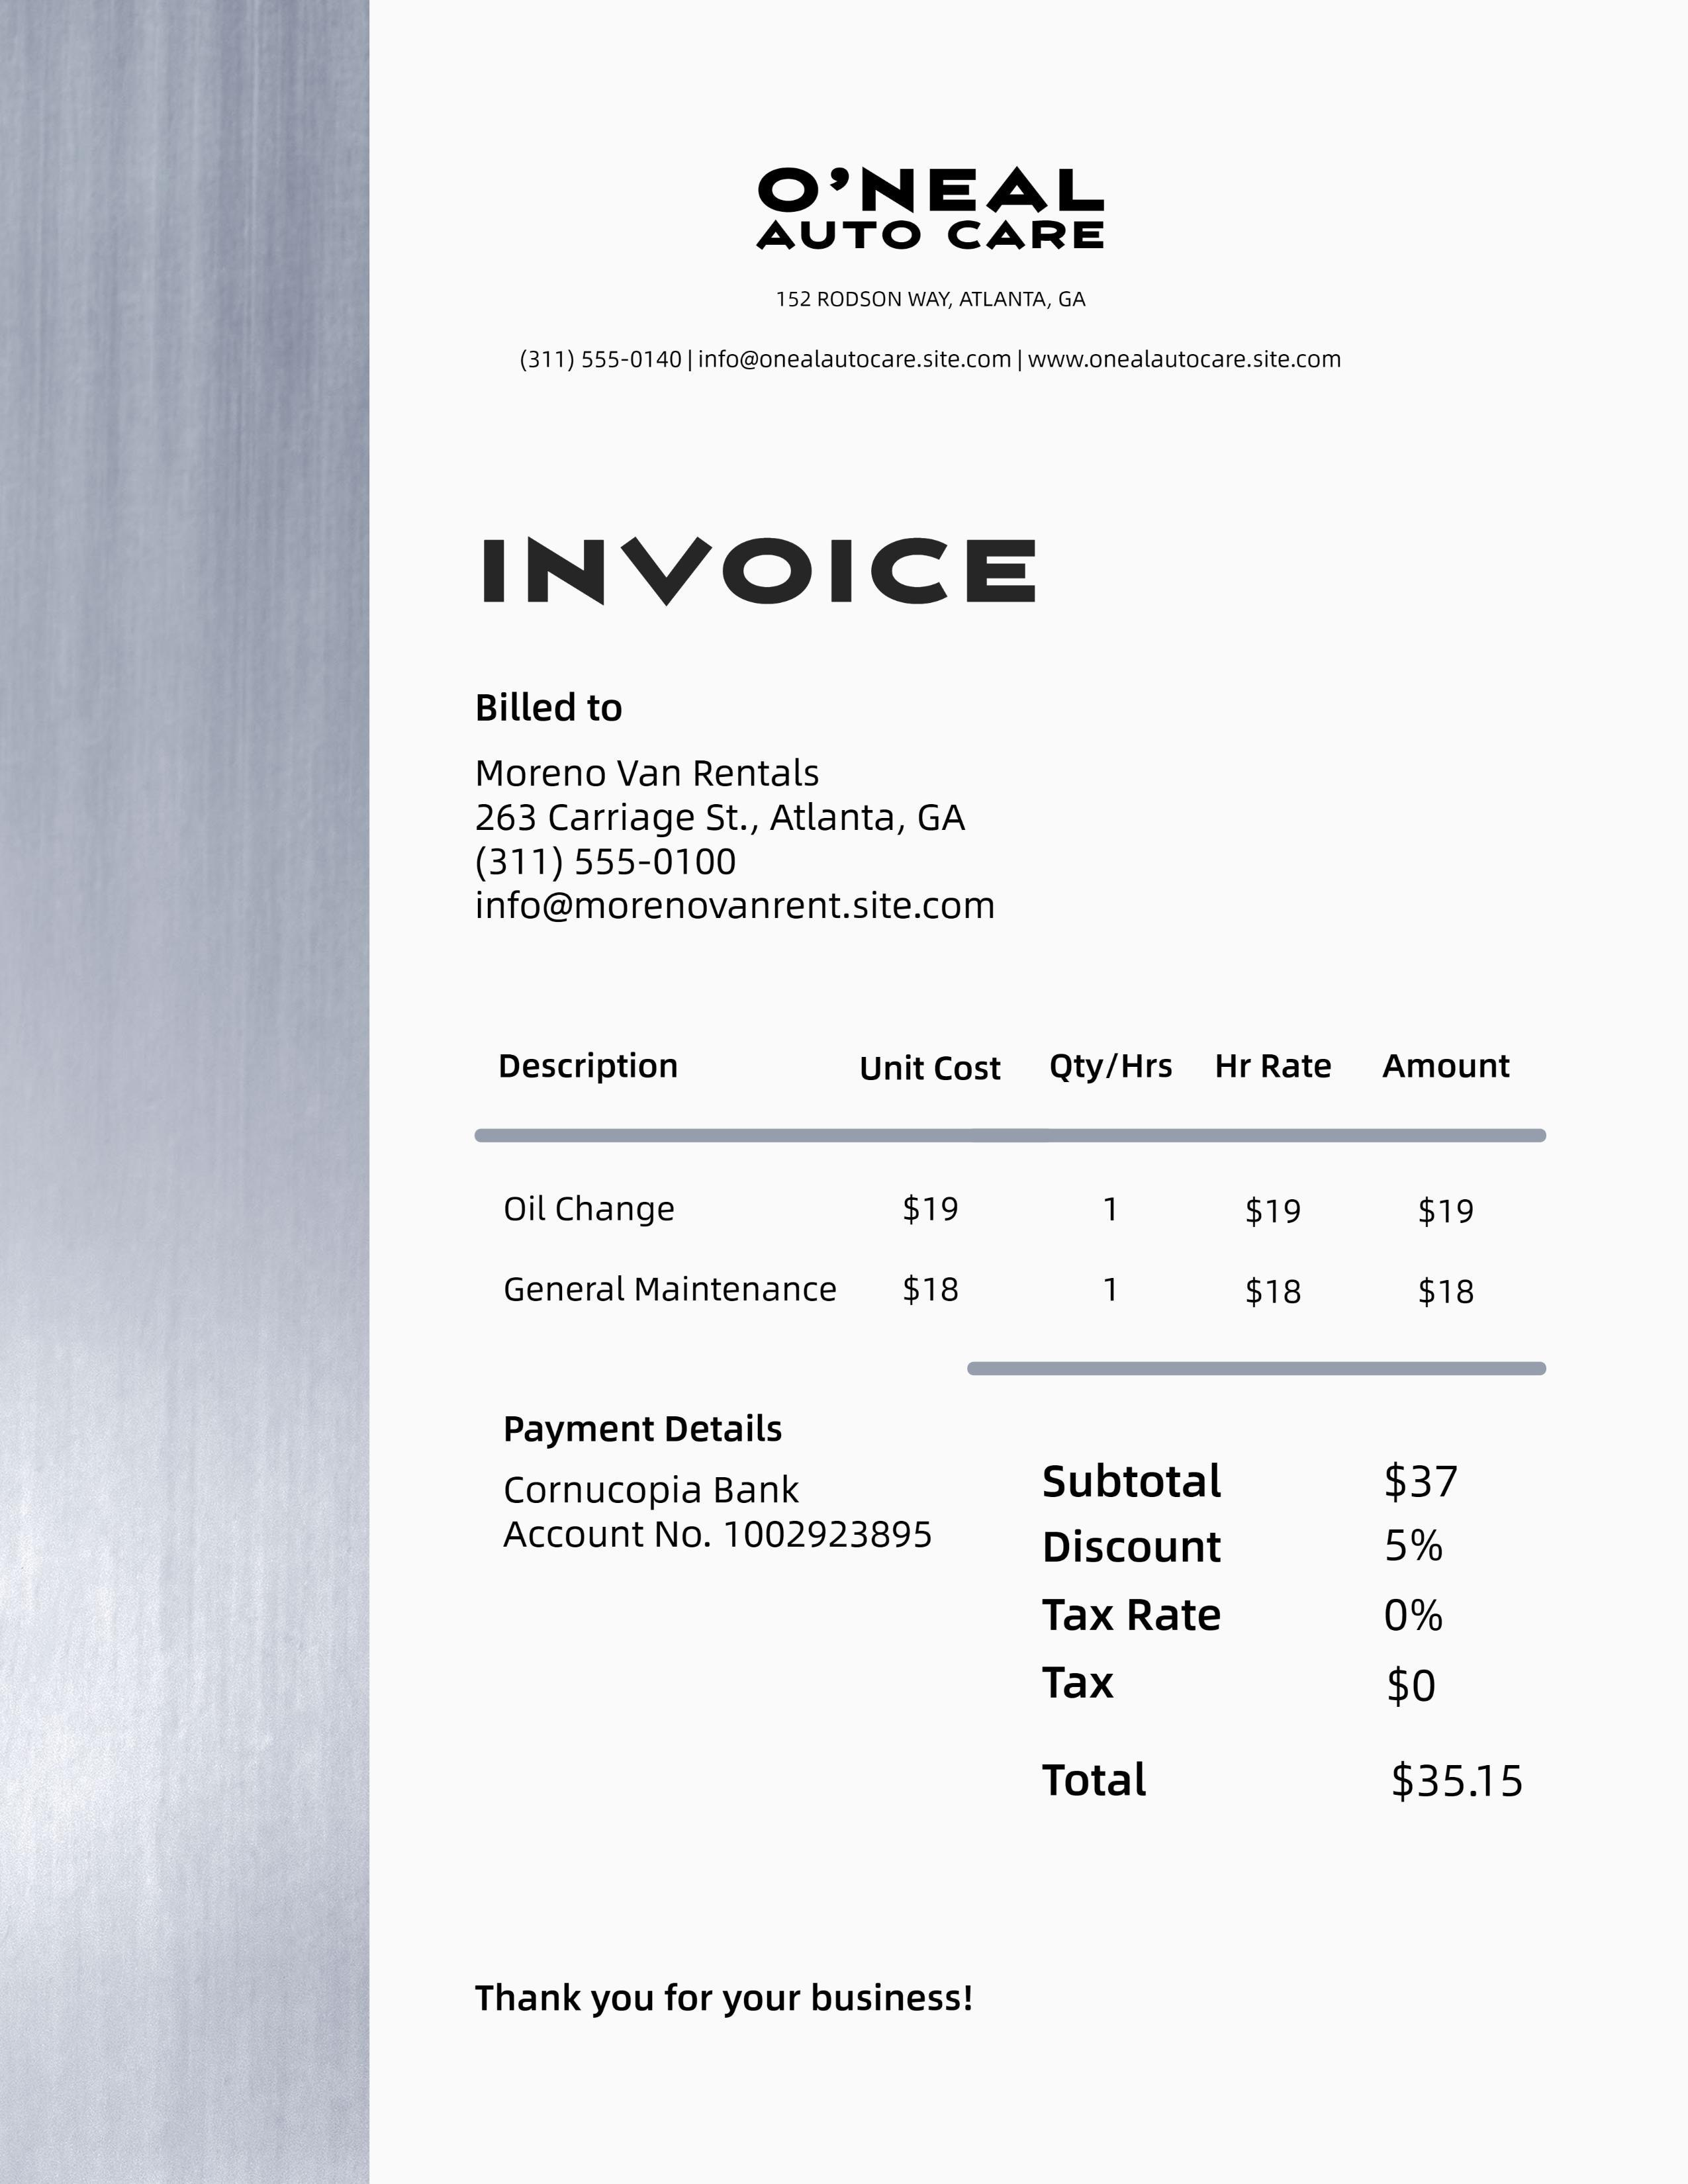ROI: (493, 1046, 1551, 1324), (1034, 1454, 1530, 1821), (449, 661, 1053, 947), (489, 1399, 945, 1571), (732, 140, 1137, 269)
